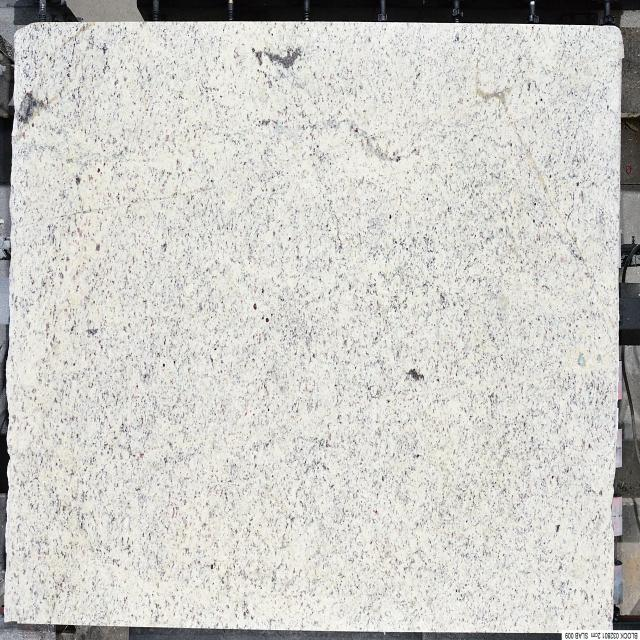chapa: (5, 22, 621, 630)
